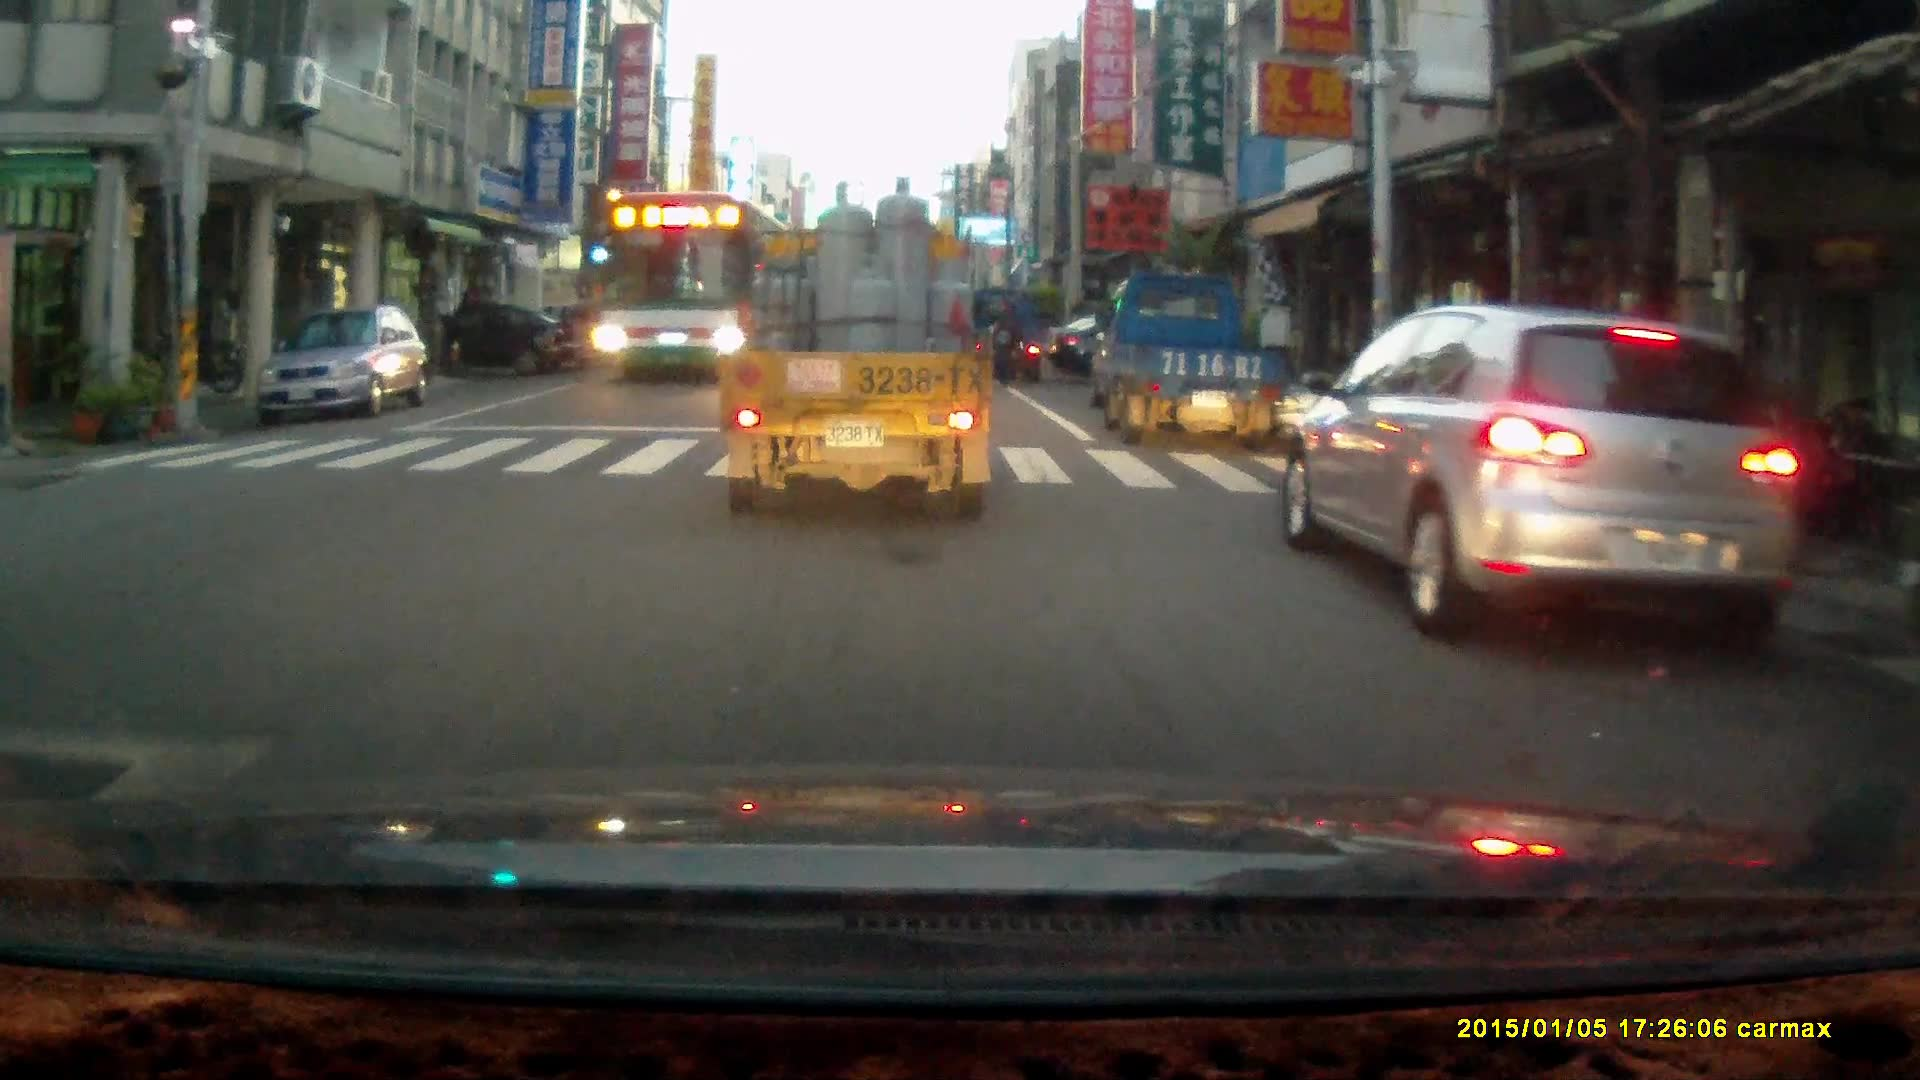pedestrian: (992, 288, 1032, 382)
vehicle: (1282, 297, 1798, 645), (725, 171, 996, 524), (586, 189, 780, 384), (1087, 264, 1282, 442), (250, 302, 431, 423), (395, 297, 582, 374), (558, 293, 658, 365)
